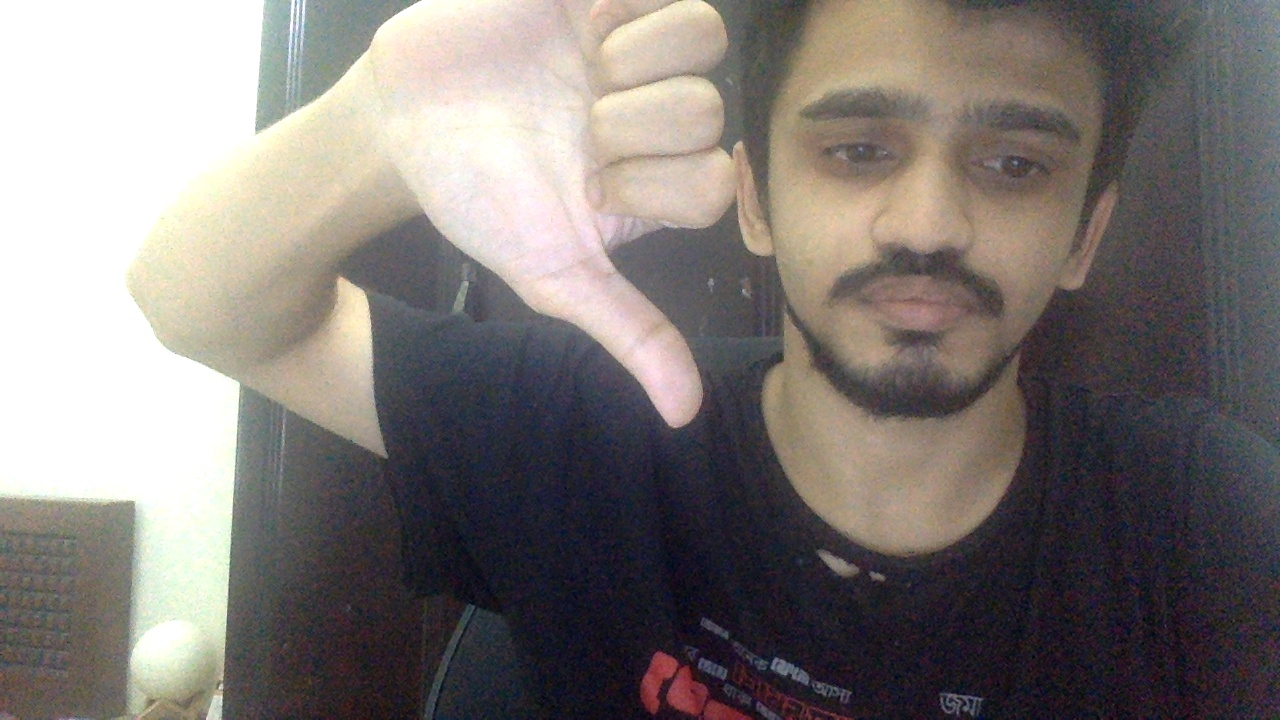bad: (371, 2, 737, 427)
